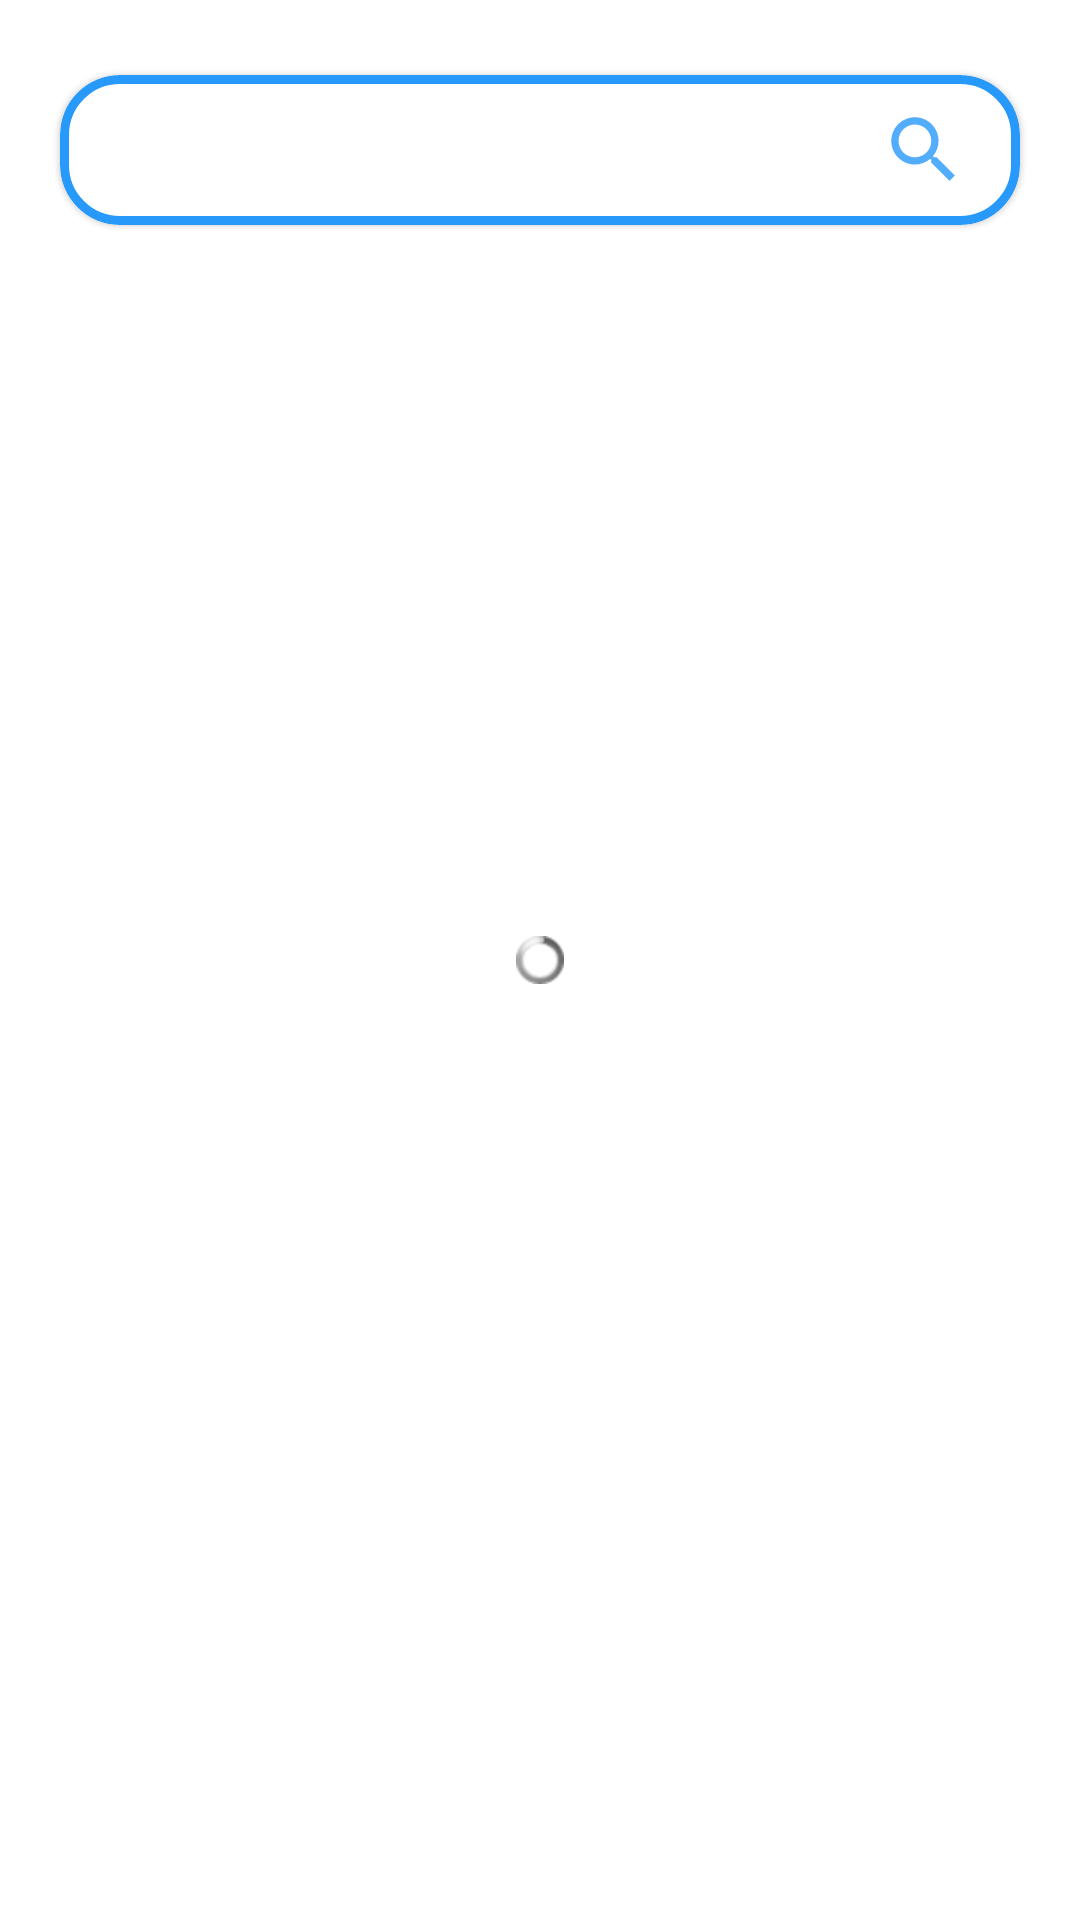

Locate icon controls on the screen. Image size 1080×1920, boxes as (x1, y1, x2, y2).
search: (828, 75, 1020, 225)
